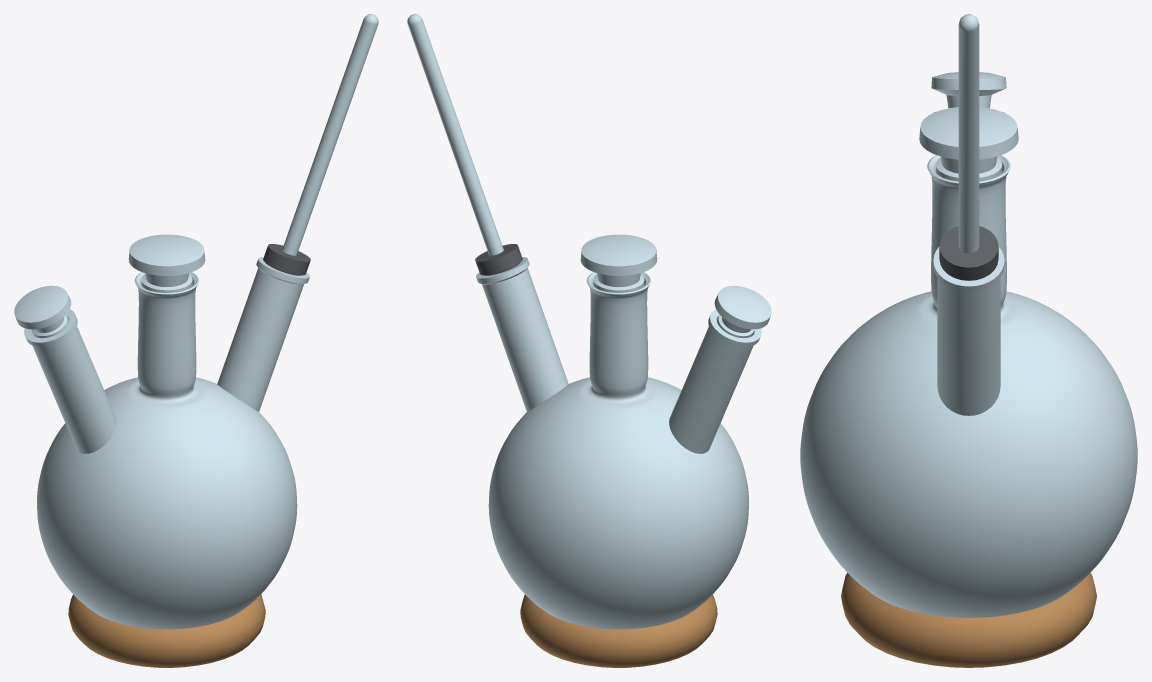
Rendered from three-neck-flask.glb.
The picture shows the model from 3 angles, left to right: view 1: azimuth 30°, elevation 25°; view 2: azimuth 150°, elevation 25°; view 3: azimuth 270°, elevation 25°; orthographic projection. The views are drawn at different scales.
Parts seen in each view (by area): view 1: Three_Neck_Flask, Thermometer, Stopper, Side_Stopper; view 2: Three_Neck_Flask, Thermometer, Stopper, Side_Stopper; view 3: Three_Neck_Flask, Thermometer, Stopper, Side_Stopper.
Part boxes in pixels (box(x1,y1,x2,y2)): Three_Neck_Flask: box(24, 257, 309, 667); Thermometer: box(263, 14, 378, 275); Stopper: box(128, 234, 205, 292); Side_Stopper: box(14, 285, 71, 338); Three_Neck_Flask: box(476, 257, 761, 667); Thermometer: box(407, 14, 522, 275); Stopper: box(580, 234, 657, 292); Side_Stopper: box(714, 285, 771, 338); Three_Neck_Flask: box(800, 112, 1137, 667); Thermometer: box(939, 14, 998, 280); Stopper: box(919, 107, 1018, 181); Side_Stopper: box(931, 72, 1006, 108).
Bounding box in the file's own units: 0.1785 × 0.2704 × 0.112.
